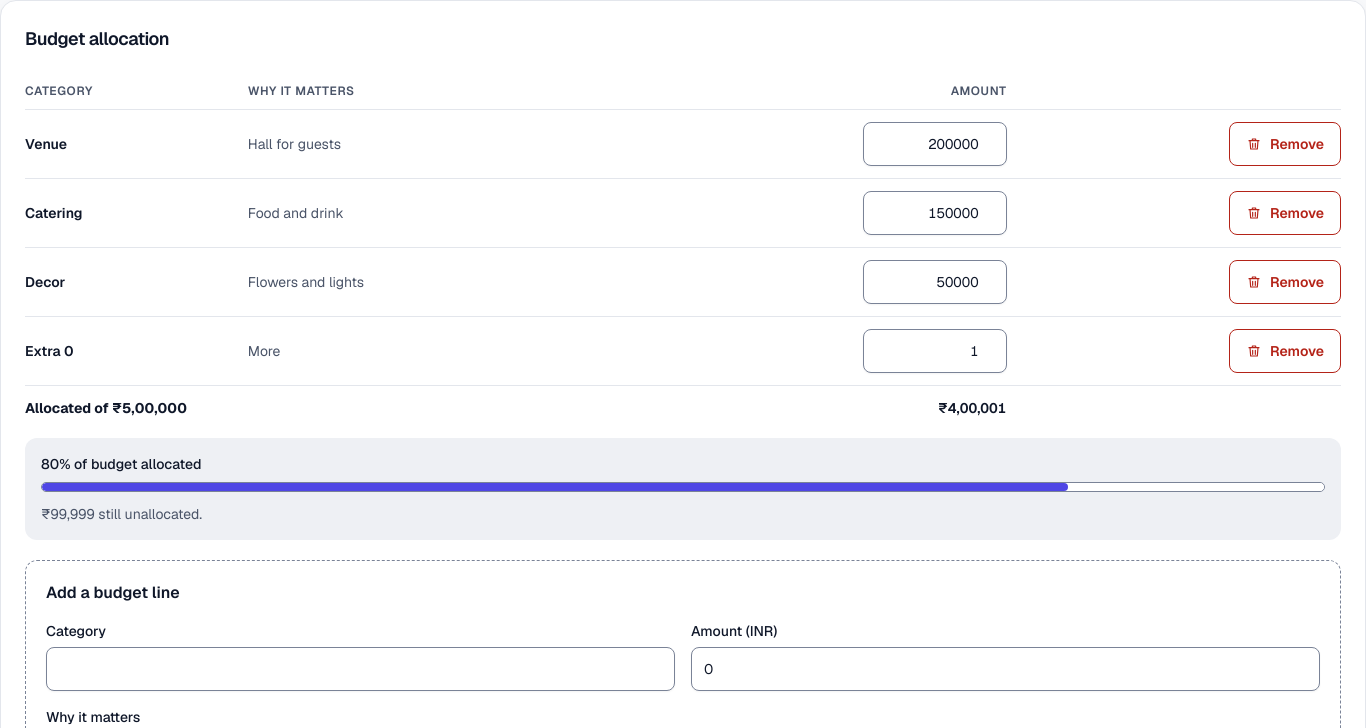
Test: BudgetTable (remove line) › offers Undo, which restores the line at its position and focuses its amount
Click the button with aria-label "Remove Catering": coordinates (1285, 213) [1229,191,1341,235]
(page scrolled)
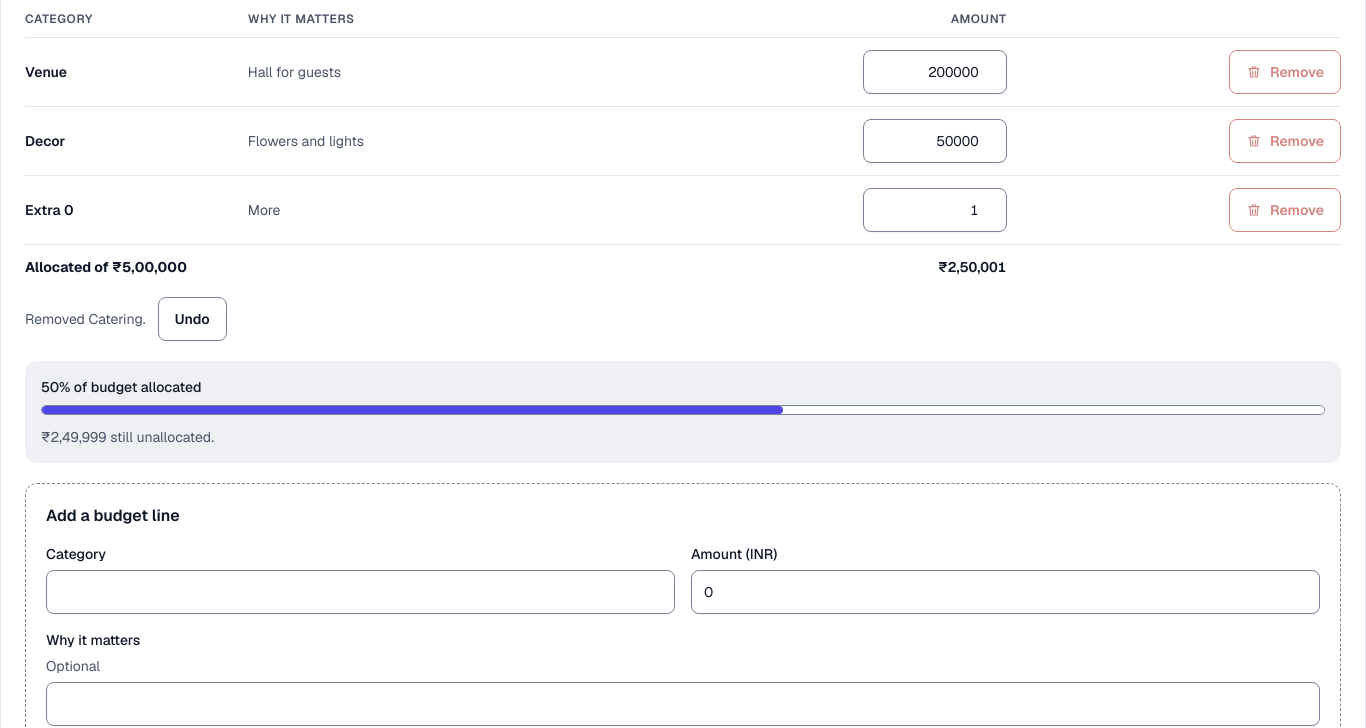
Check: the table "Remove Catering" is gone
Check: the button with aria-label "Undo removing Catering" reads "Undo"
Click the button with aria-label "Undo removing Catering": coordinates (192, 319) [158,297,227,341]
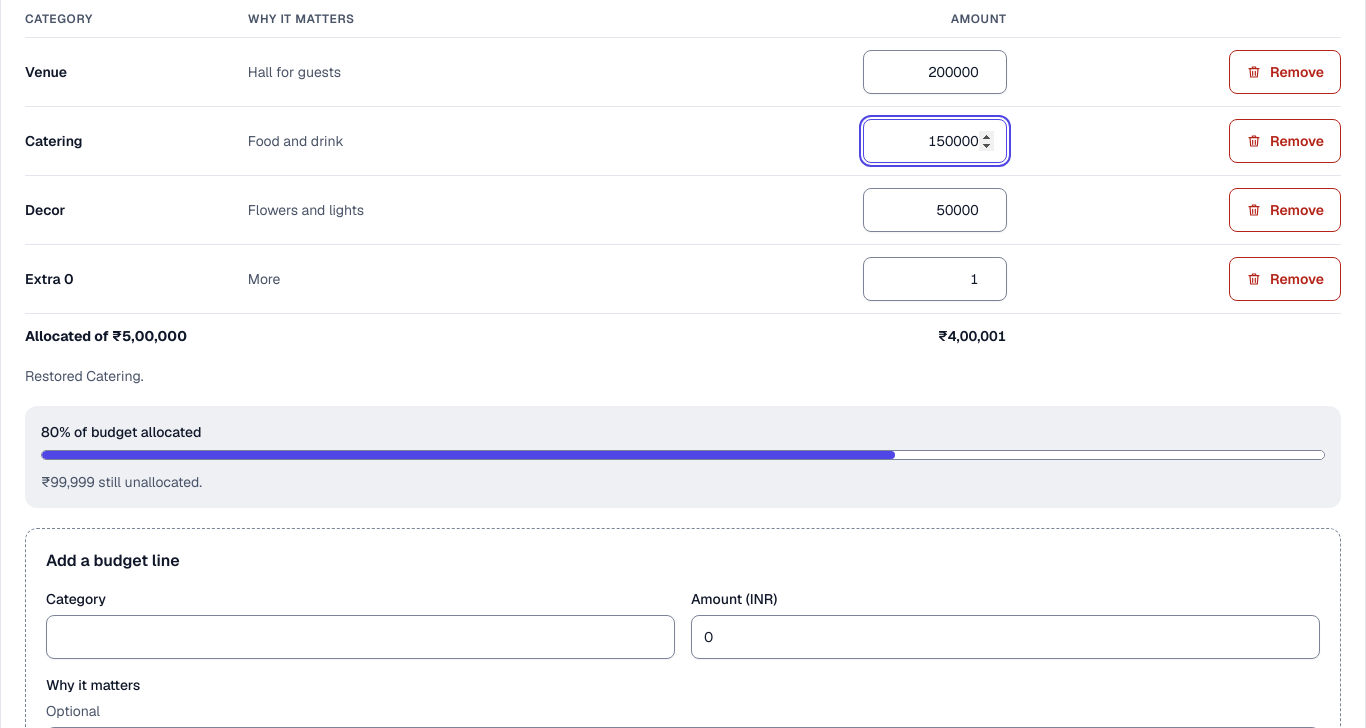
Check: the button "Undo" is gone
